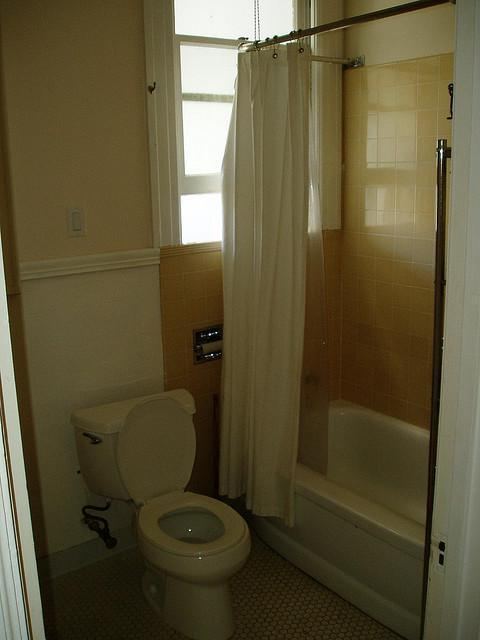Sanitario: (72, 392, 257, 639)
